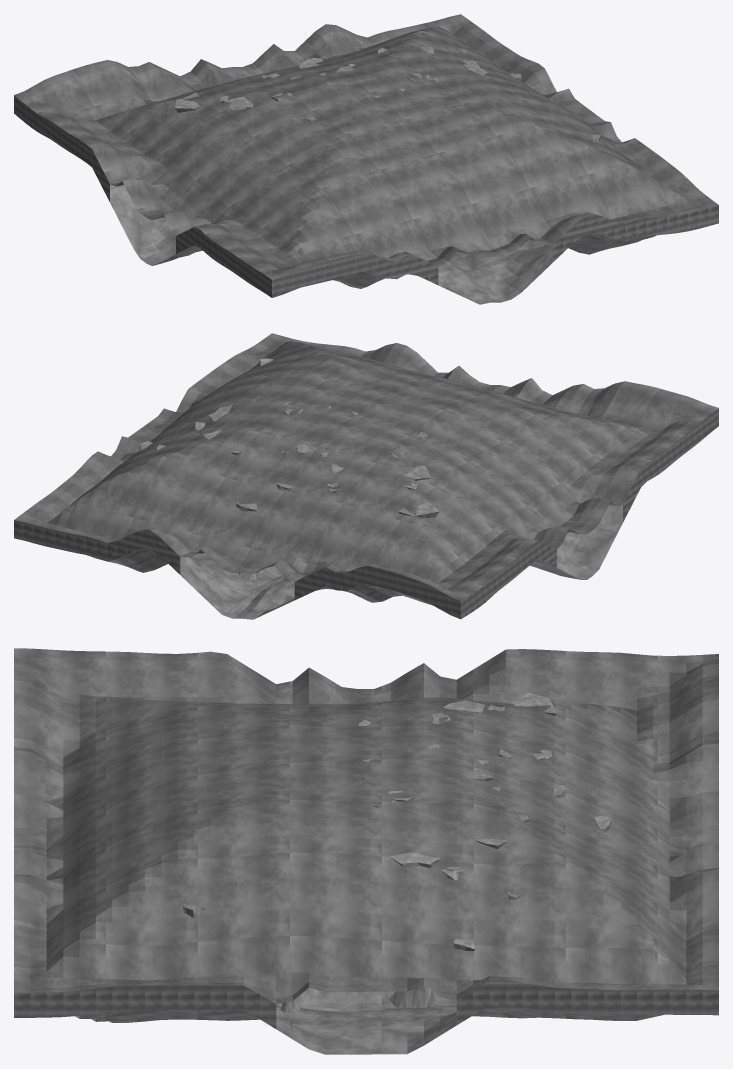
3 renders of one model, top to bottom at view 1: azimuth 30°, elevation 25°; view 2: azimuth 150°, elevation 25°; view 3: azimuth 270°, elevation 25°, orthographic. The views are drawn at different scales.
Parts seen in each view (by area): view 1: CavernVault, CavernWalls, CavernFloor, CavernStalactites; view 2: CavernVault, CavernWalls, CavernFloor, CavernStalactites, CavernColumns; view 3: CavernVault, CavernWalls, CavernFloor, CavernStalactites, CavernColumns.
Boxes of the visible parts, bbox=[...] form: CavernVault: bbox=[14, 14, 718, 279]; CavernWalls: bbox=[14, 95, 718, 297]; CavernFloor: bbox=[110, 184, 656, 304]; CavernStalactites: bbox=[175, 46, 600, 142]; CavernVault: bbox=[14, 333, 718, 600]; CavernWalls: bbox=[14, 408, 718, 619]; CavernFloor: bbox=[86, 504, 622, 619]; CavernStalactites: bbox=[138, 358, 439, 518]; CavernColumns: bbox=[208, 402, 303, 579]; CavernVault: bbox=[14, 648, 718, 1004]; CavernWalls: bbox=[14, 980, 718, 1028]; CavernFloor: bbox=[75, 987, 663, 1054]; CavernStalactites: bbox=[182, 692, 565, 950]; CavernColumns: bbox=[373, 793, 612, 1008].
Bounding box in the file's own units: 92 × 25.36 × 92.
Materials: 5 (5 with a texture image).
